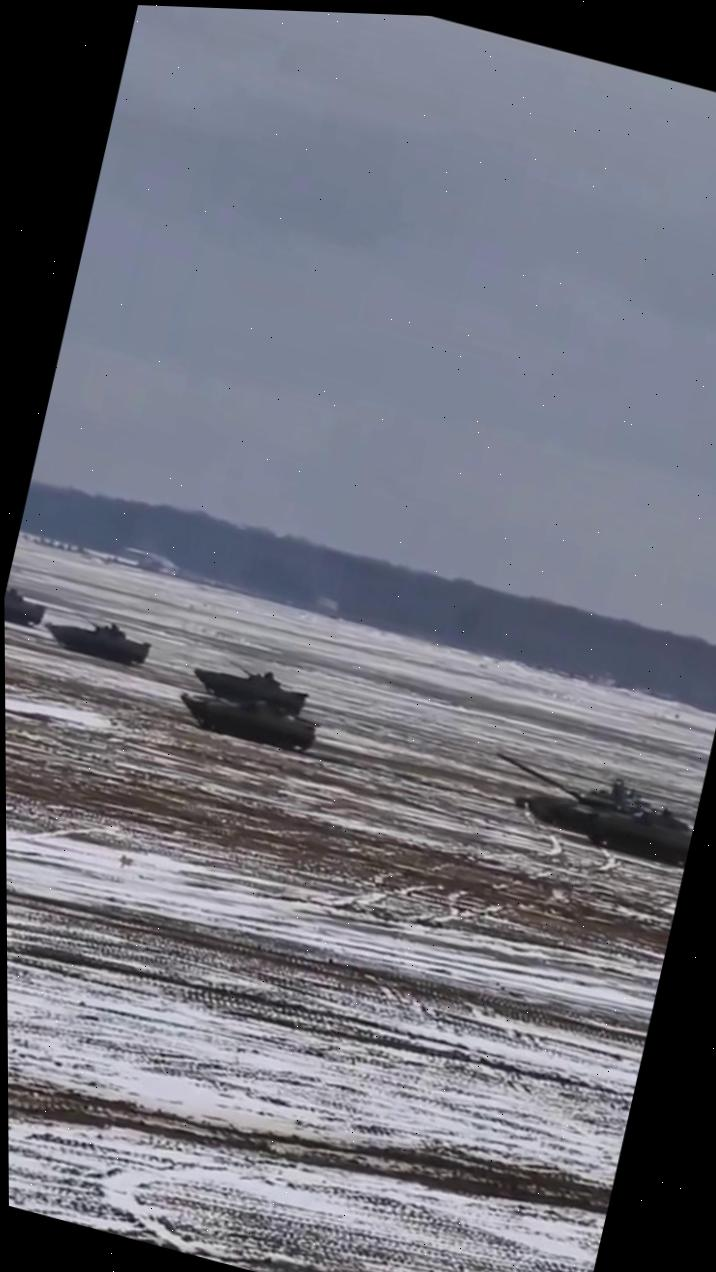tank: (479, 747, 699, 881), (167, 670, 329, 769), (31, 596, 159, 686), (188, 646, 320, 719), (4, 581, 53, 652)
